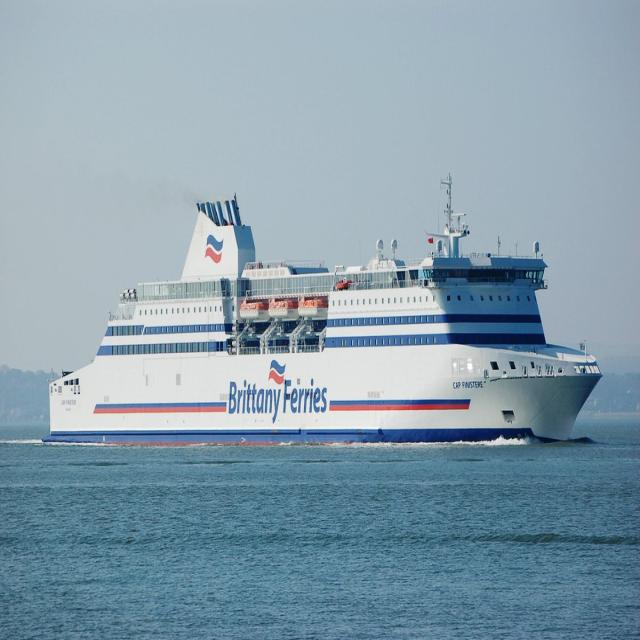passenger ship: (42, 180, 594, 443)
